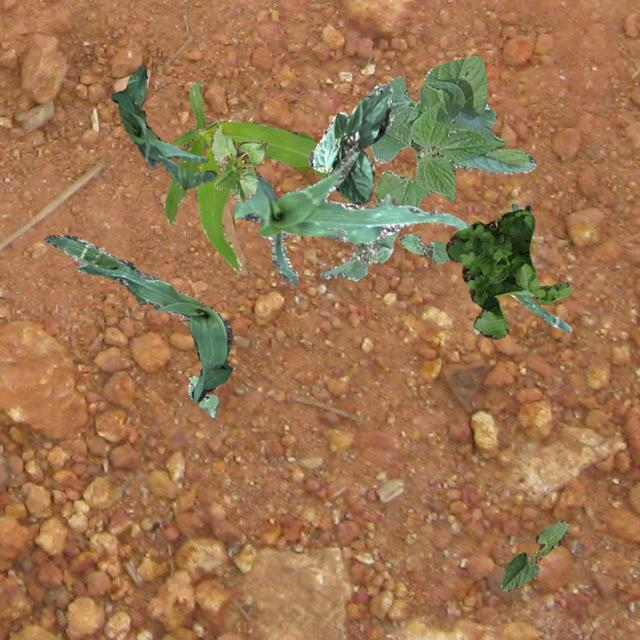crop: (162, 79, 352, 274), (232, 150, 470, 284), (44, 234, 232, 400), (366, 55, 534, 206), (110, 64, 216, 188), (308, 84, 392, 204), (510, 202, 570, 332), (318, 192, 398, 280), (499, 518, 568, 590), (210, 124, 266, 202), (398, 232, 449, 262), (186, 374, 218, 418)
weed: (444, 205, 572, 338)
